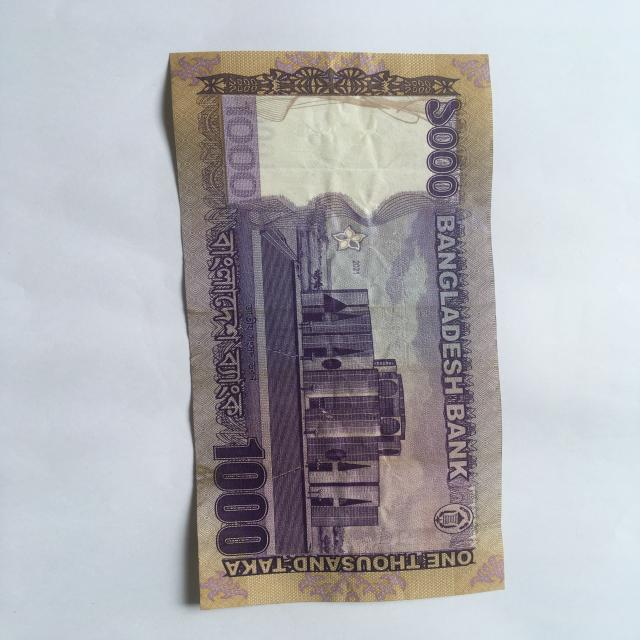Taka: (169, 40, 520, 604)
